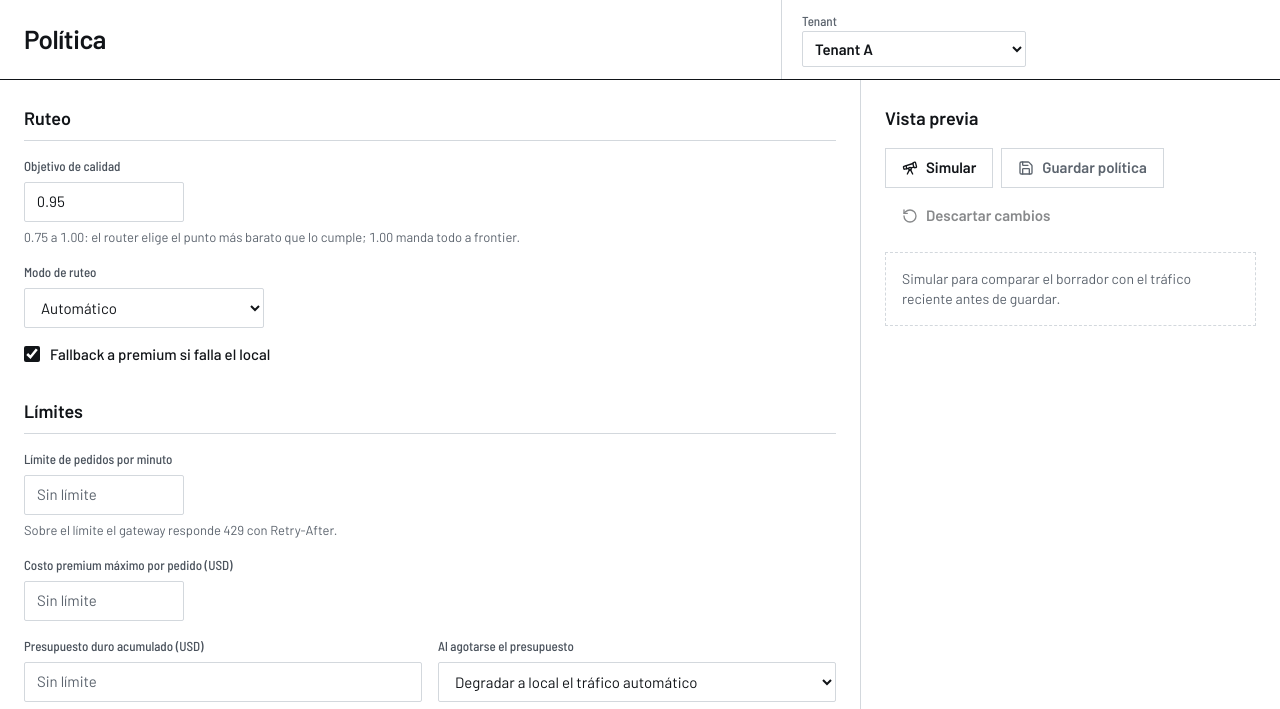
policy-page › shows explicit zero-result preview state
Expected: the heading "Vista previa" is shown, [885,104,978,132]
What coordinates should you click on to do the following:
click the button "Simular"
I would click on:
 (939, 168)
Its box is [885,148,993,188].
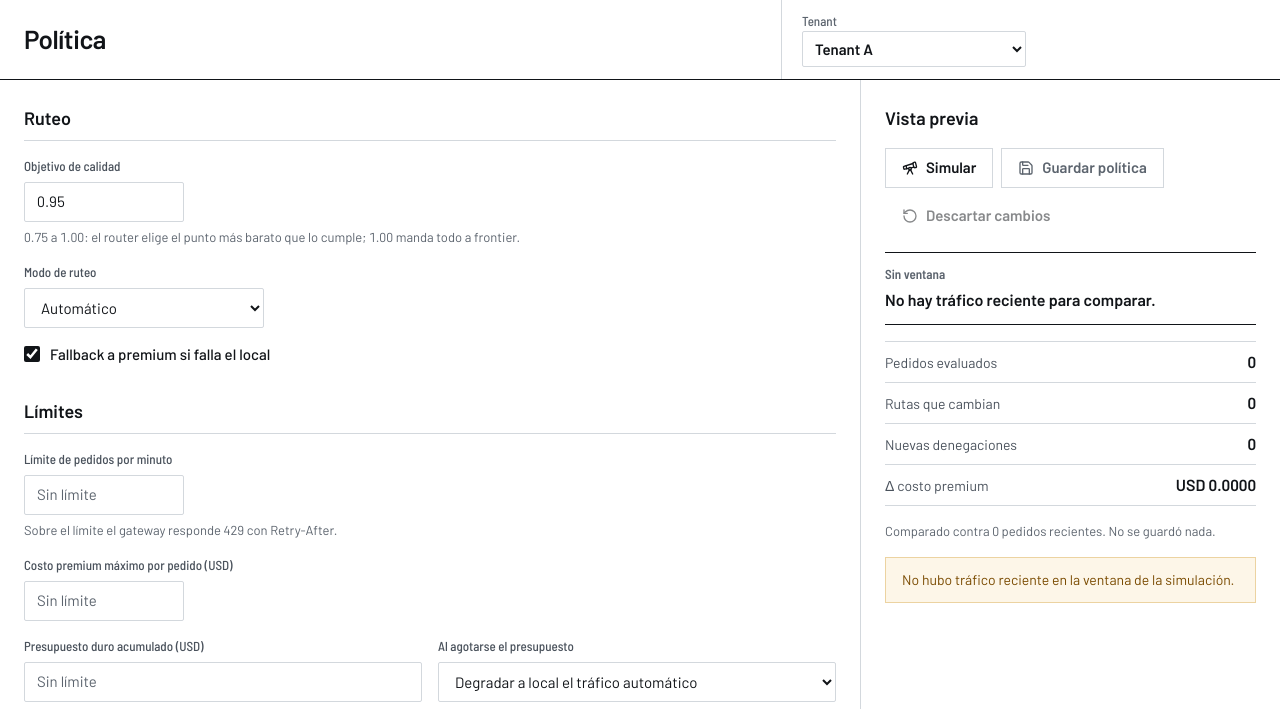
Result: the text "No hubo tráfico reciente en la ventana de la simulación." is shown at [902,570,1239,590]
Result: the text "Comparado contra 0 pedidos recientes. No se guardó nada." is shown at [885,522,1256,541]
